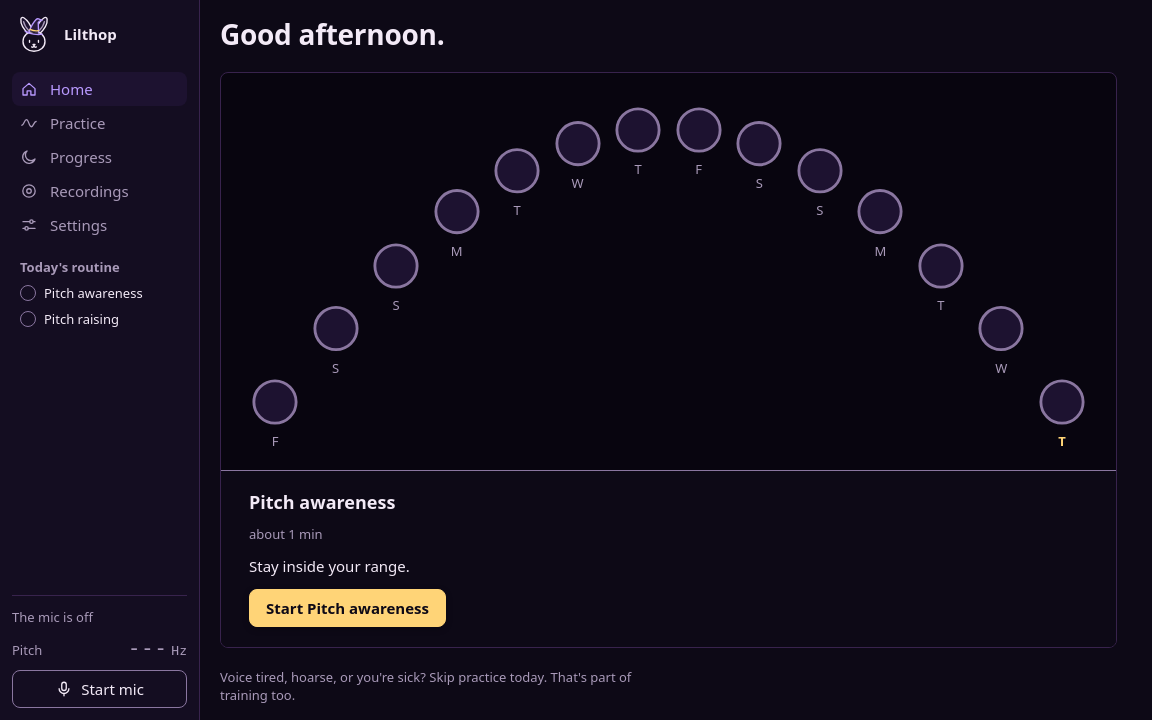
Test: the discard note › is gone once another exercise is opened from the routine
Click the button "Practice" at (100, 123), box [12,106,187,140]
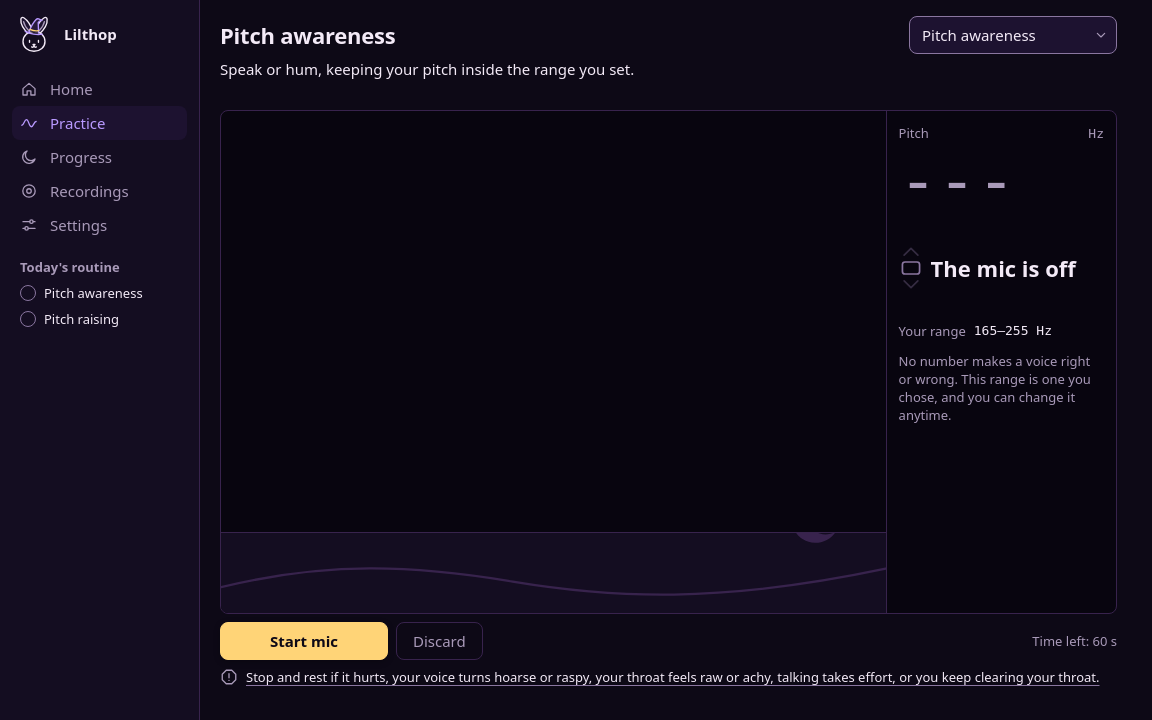
Click the button "Start mic" at (304, 641), box [220,622,388,660]
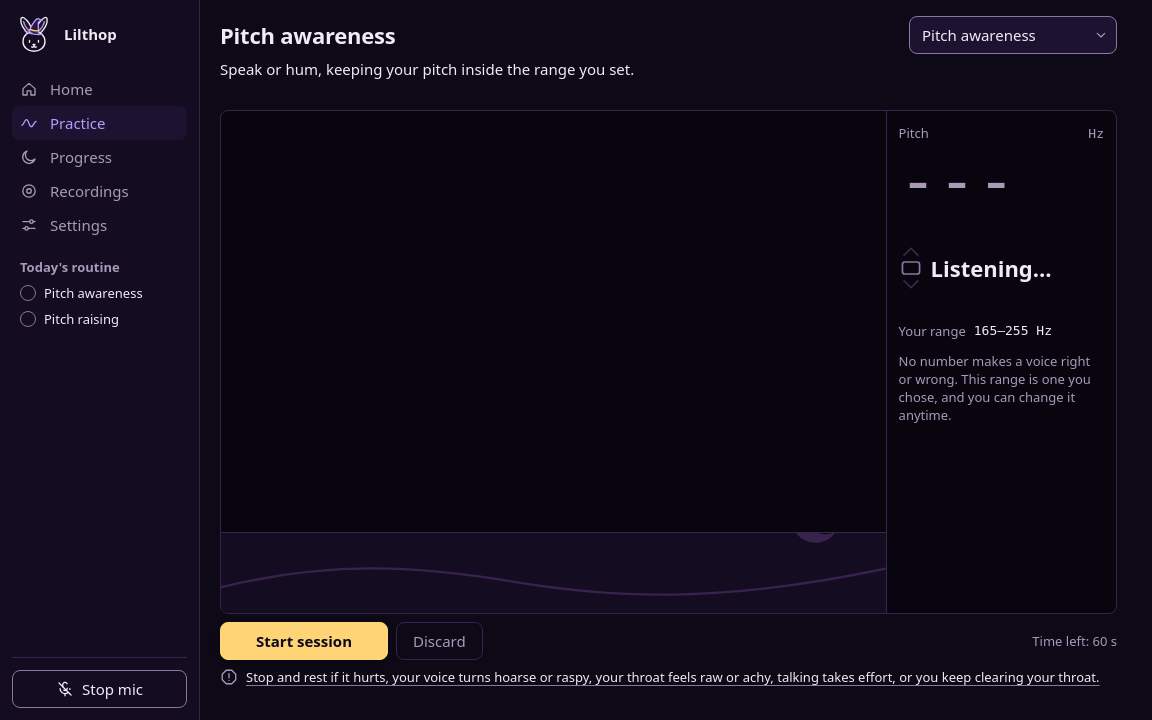
Select "Glides" in the dropdown at (1013, 35), box [909,16,1117,54]
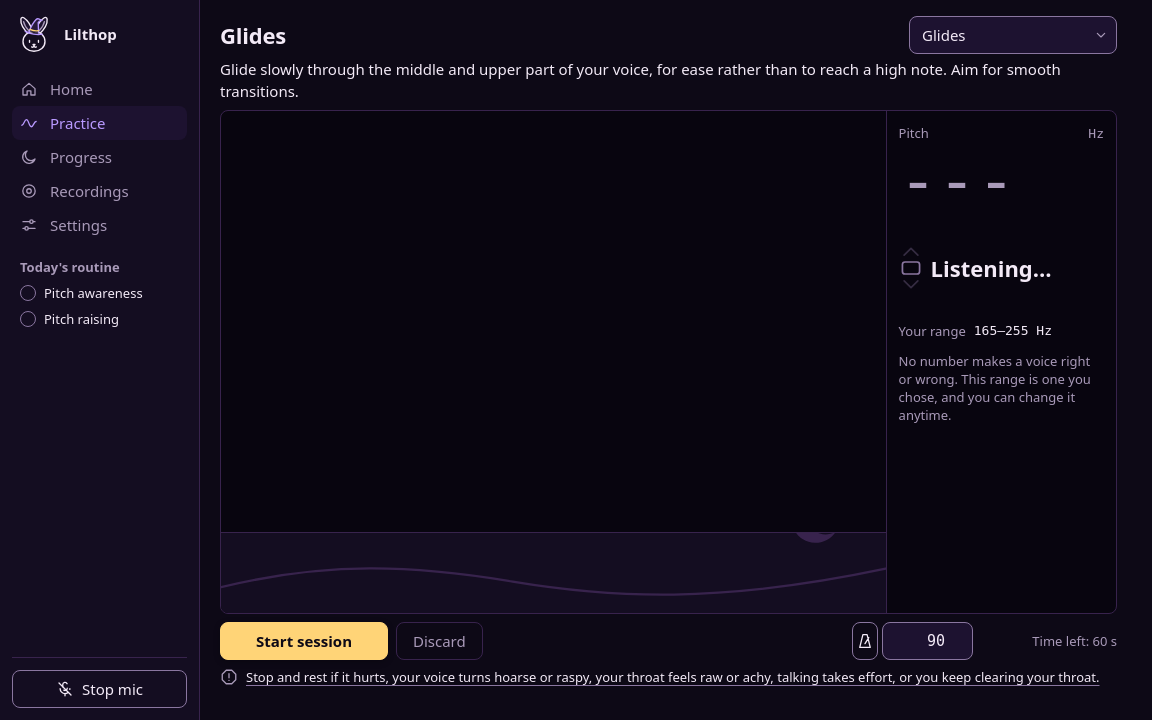
Click the button "Start session" at (304, 641), box [220,622,388,660]
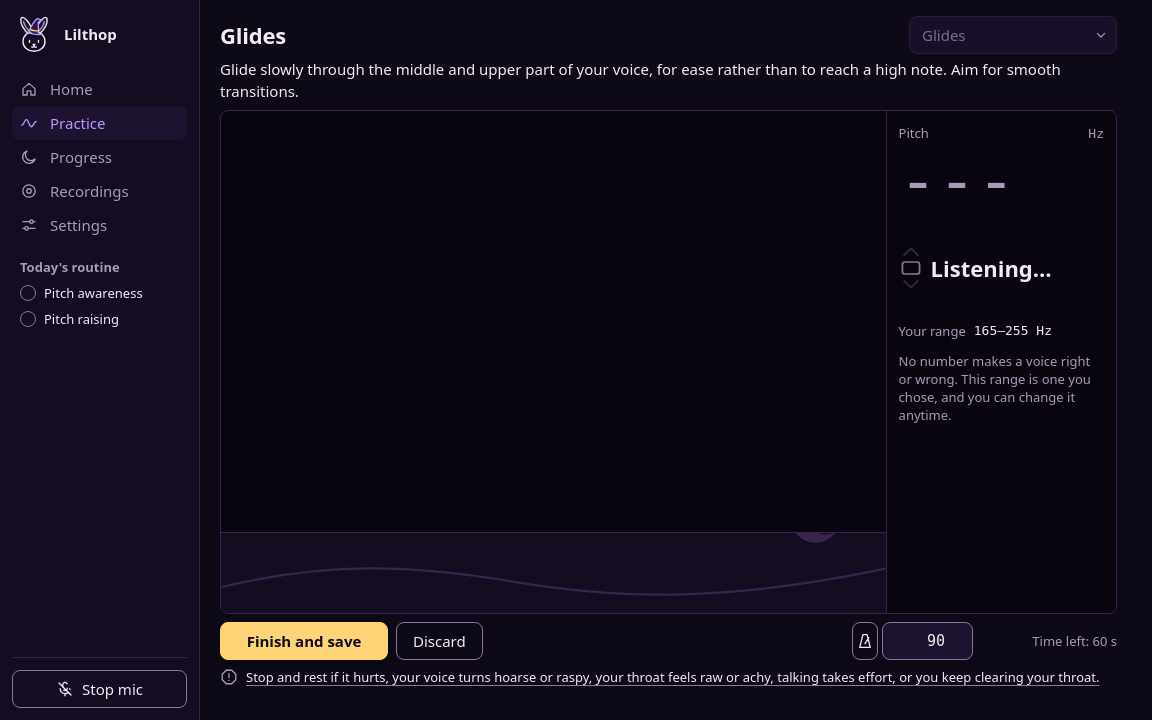
Click the button "Discard" at (439, 641), box [396,622,483,660]
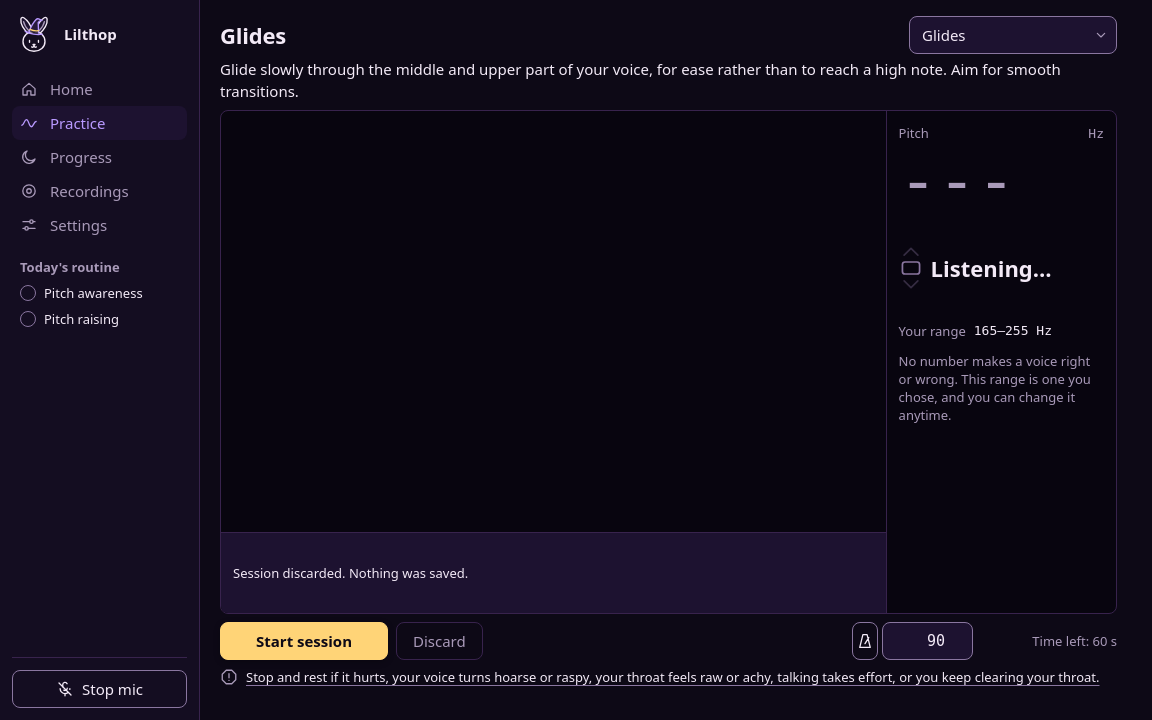
Check: the text "Session discarded. Nothing was saved." is shown, box [233,564,468,582]
Click the button "Pitch awareness" at (100, 293), box [20,280,179,306]
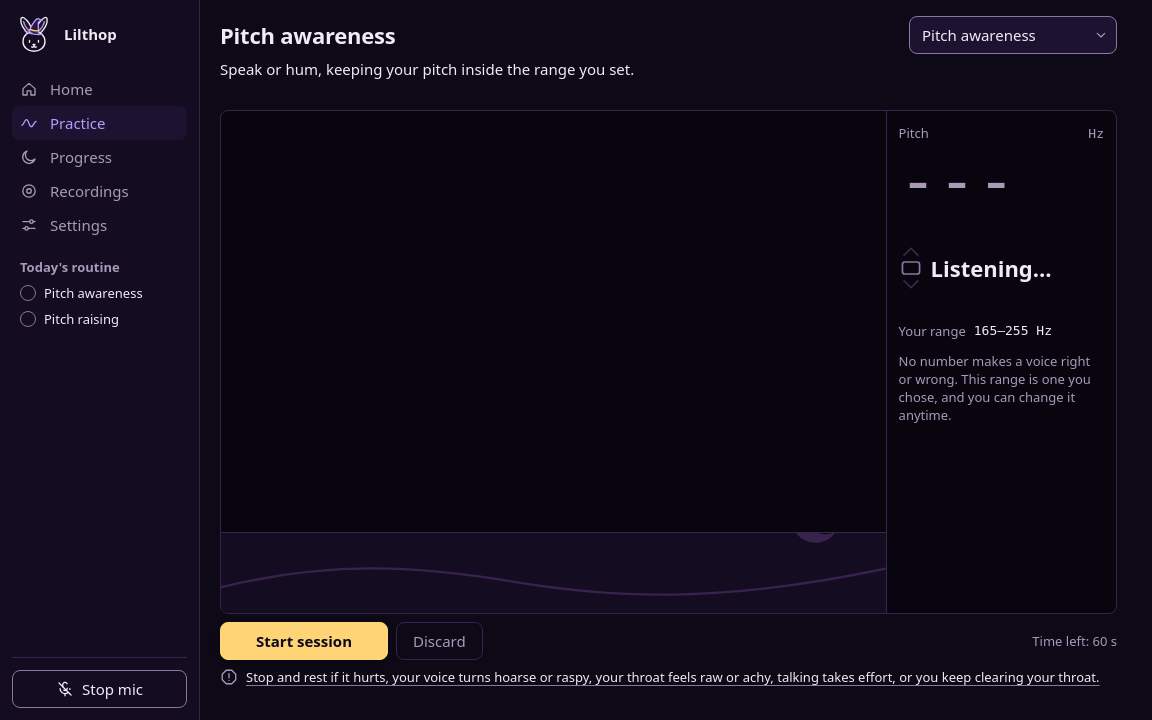
Check: the heading "Pitch awareness" is shown, box [220,20,396,50]
Check: the text "Session discarded. Nothing was saved." is gone
